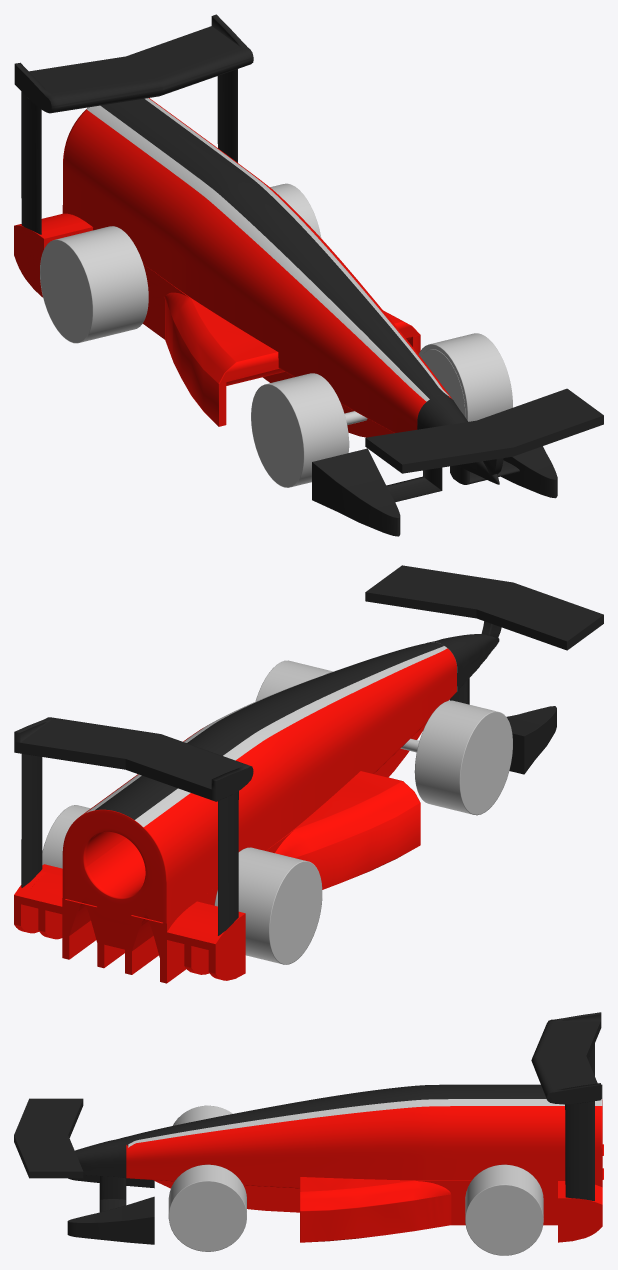
Rendered from pocadores.obj.
3 renders of one model, top to bottom at view 1: azimuth 30°, elevation 25°; view 2: azimuth 150°, elevation 25°; view 3: azimuth 270°, elevation 25°, orthographic. The views are drawn at different scales.
Parts seen in each view (by area): view 1: 05_Asa_Dianteira_1_TESTAR_v36.001; view 2: 05_Asa_Dianteira_1_TESTAR_v36.001; view 3: 05_Asa_Dianteira_1_TESTAR_v36.001.
Boxes of the visible parts, box(x1,y1,x2,y2) form: 05_Asa_Dianteira_1_TESTAR_v36.001: box(14, 14, 603, 536); 05_Asa_Dianteira_1_TESTAR_v36.001: box(14, 565, 603, 983); 05_Asa_Dianteira_1_TESTAR_v36.001: box(14, 1012, 603, 1255).
Bounding box in the file's own units: 66.09 × 61.67 × 199.
